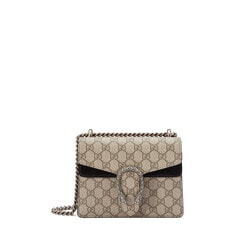Gucci: (66, 127, 191, 223), (118, 161, 151, 221), (84, 143, 168, 165)
